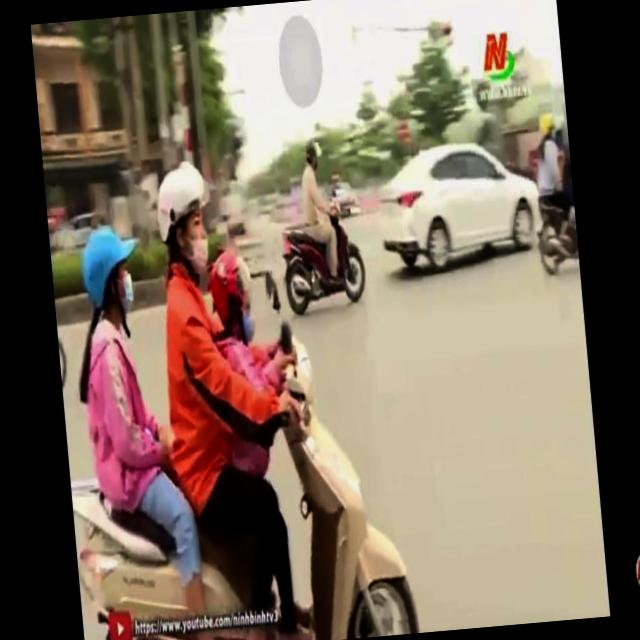motorcycle: (63, 304, 435, 640)
person: (142, 144, 284, 562), (204, 240, 331, 621), (58, 214, 189, 524)
rider_region: (50, 135, 416, 640)
